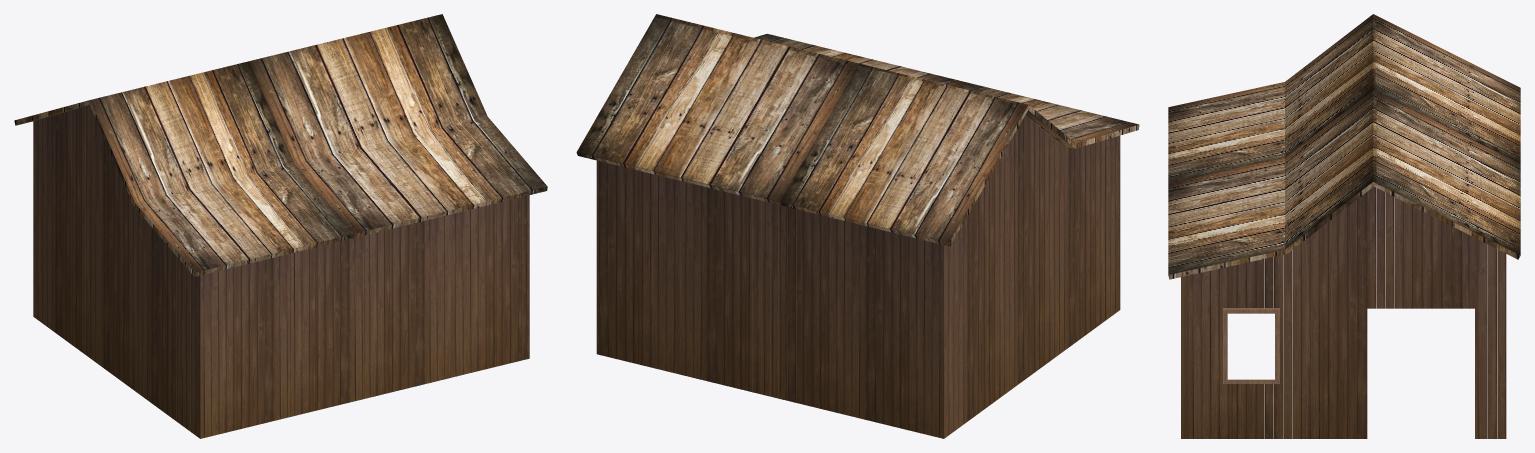
Rendered from house1-transformed.glb.
The picture shows the model from 3 angles, left to right: view 1: azimuth 30°, elevation 25°; view 2: azimuth 150°, elevation 25°; view 3: azimuth 270°, elevation 25°; orthographic projection. The views are drawn at different scales.
Parts seen in each view (by area): view 1: Roof, wall.001, wall3; view 2: wall, Roof, wall3; view 3: Roof, wall2, Window.
Part boxes in pixels (x1,y1,x2,y2): Roof: [14, 14, 547, 276]; wall.001: [200, 182, 529, 438]; wall3: [33, 105, 200, 438]; wall: [597, 160, 943, 438]; Roof: [576, 14, 1139, 246]; wall3: [943, 115, 1120, 438]; Roof: [1168, 14, 1520, 279]; wall2: [1181, 186, 1506, 438]; Window: [1223, 308, 1279, 383].
Size of the model in its own units: 3.14 by 2.29 by 2.78.
Materials: 5 (5 with a texture image).
